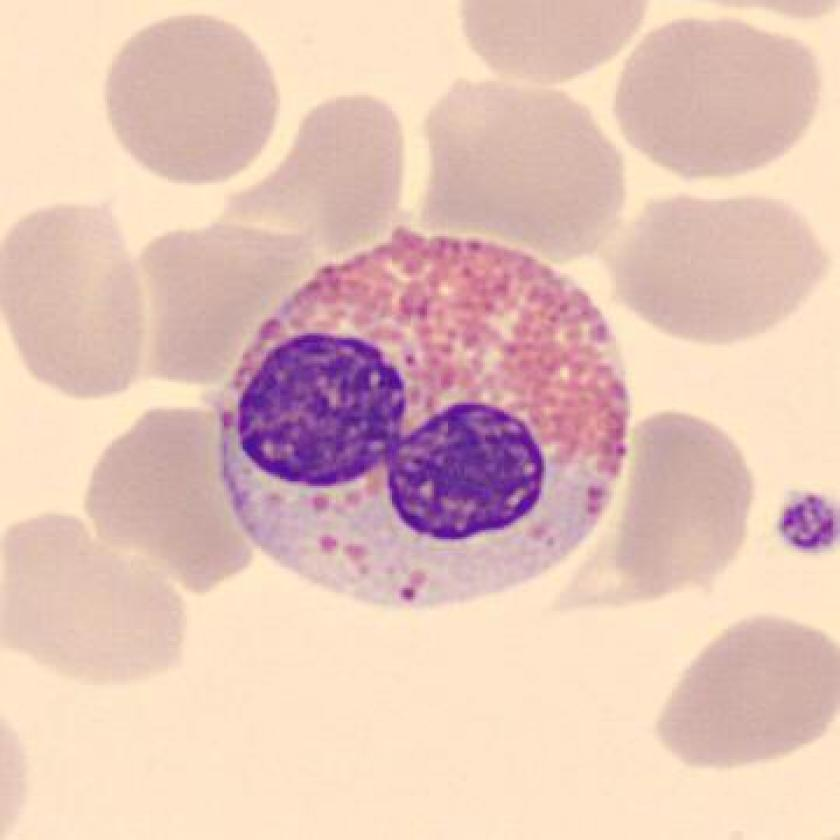eosinophil: (202, 216, 654, 633)
